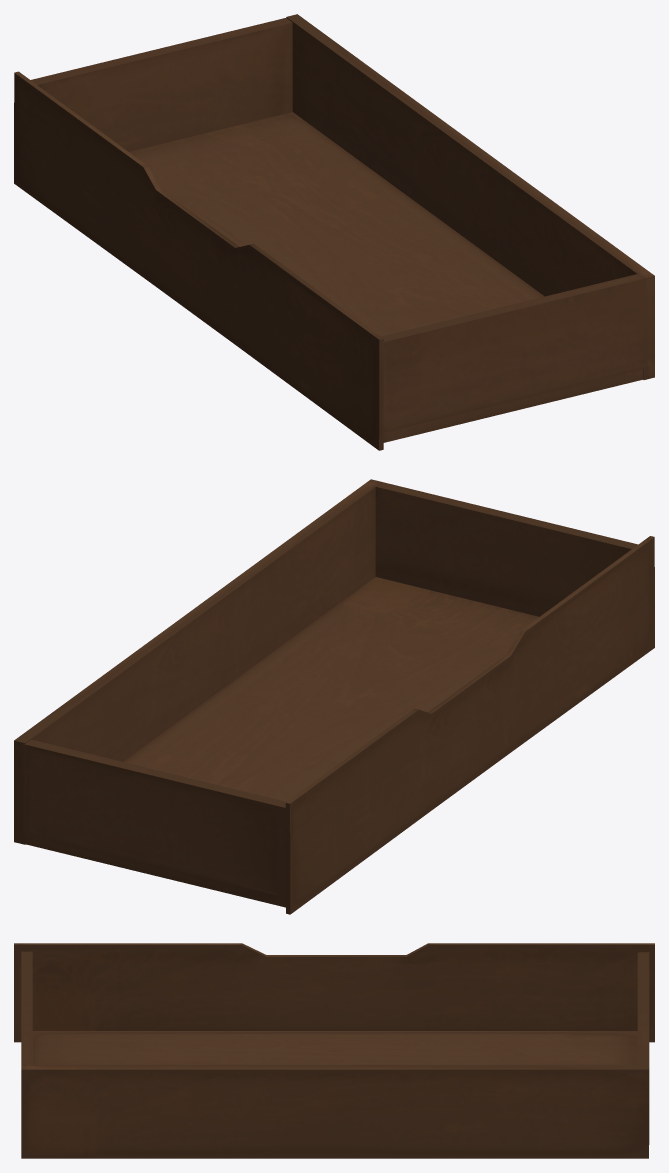
File: SM_Table_A3_Cab1.fbx
3 renders of one model, top to bottom at view 1: azimuth 30°, elevation 25°; view 2: azimuth 150°, elevation 25°; view 3: azimuth 270°, elevation 25°, orthographic. The views are drawn at different scales.
Visible parts, largest first — view 1: SM_Table_A3_Cab1; view 2: SM_Table_A3_Cab1; view 3: SM_Table_A3_Cab1.
Boxes of the visible parts, x1,y1,x2,y2 form: SM_Table_A3_Cab1: (14,14,654,450); SM_Table_A3_Cab1: (14,479,654,914); SM_Table_A3_Cab1: (14,943,654,1158).
Bounding box in the file's own units: 31.42 × 70.94 × 11.89.
Materials: 1 (1 with a texture image).
